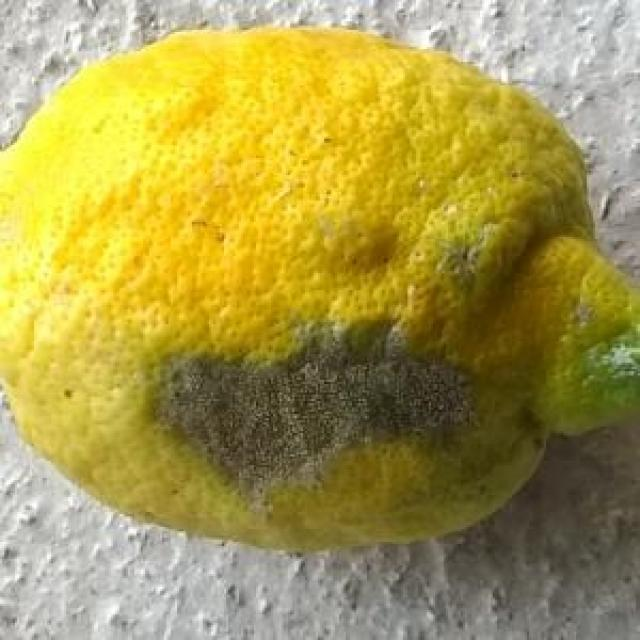lemon: (4, 24, 626, 561)
